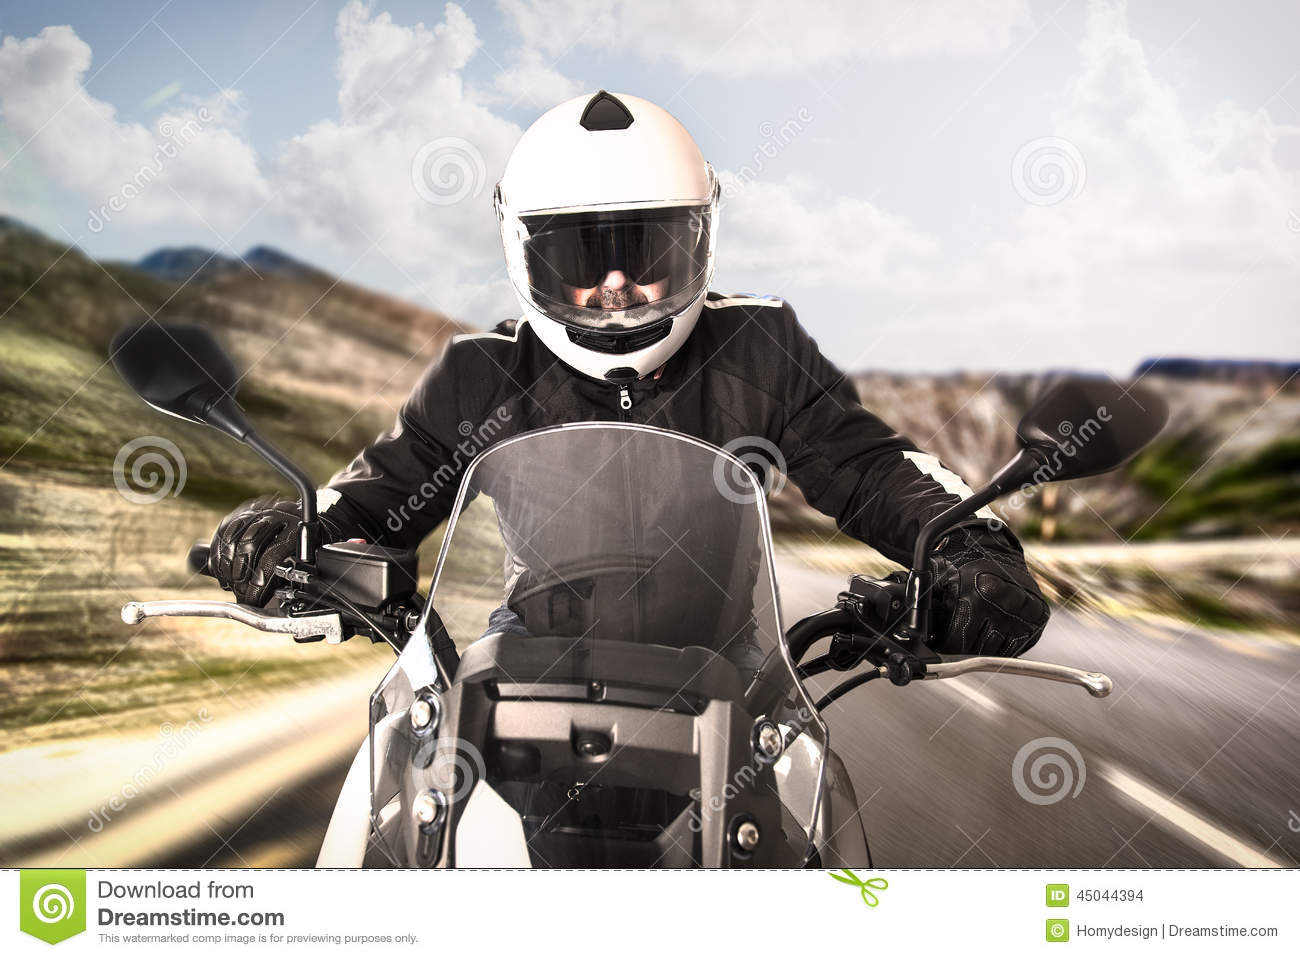helmet: (488, 82, 714, 355)
